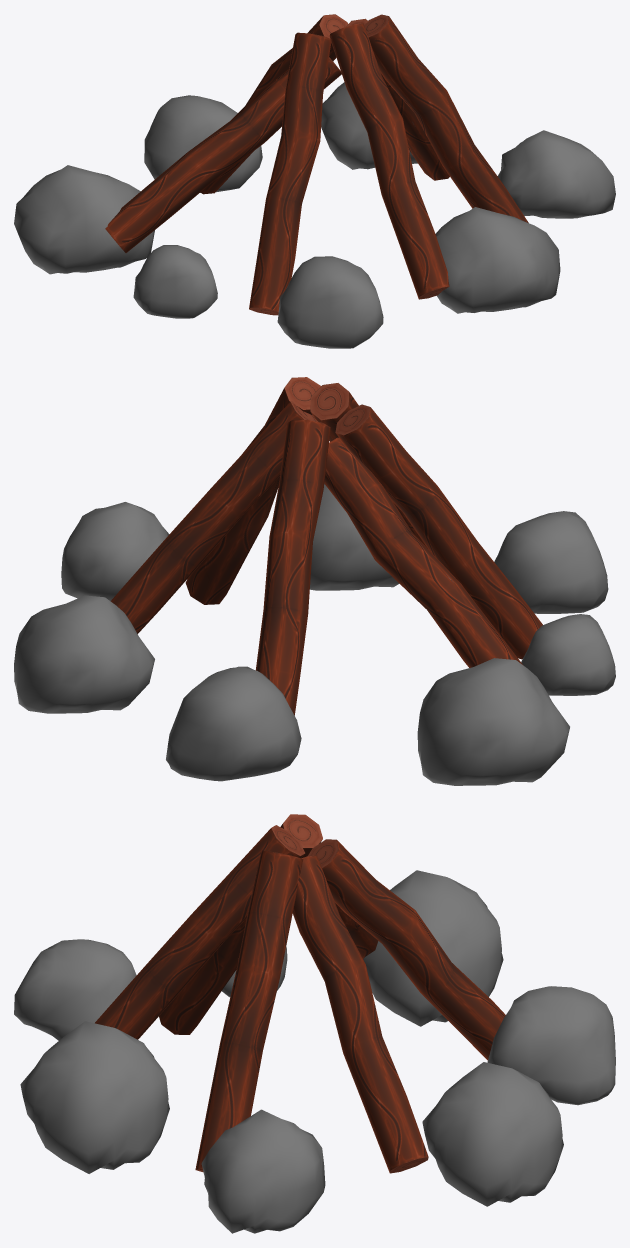
File: Campfire.FBX
3 views of the same model, one above another, from view 1: azimuth 30°, elevation 25°; view 2: azimuth 150°, elevation 25°; view 3: azimuth 270°, elevation 25° (orthographic). The views are drawn at different scales.
Parts seen in each view (by area): view 1: rockLP012, Stokkie005; view 2: rockLP012, Stokkie005; view 3: rockLP012, Stokkie005.
Part boxes in pixels (x1,y1,x2,y2): rockLP012: (14, 82, 615, 348); Stokkie005: (105, 14, 528, 315); rockLP012: (14, 484, 615, 785); Stokkie005: (110, 377, 542, 715); rockLP012: (14, 870, 615, 1233); Stokkie005: (95, 814, 505, 1173).
Bounding box in the file's own units: 41.58 × 18.79 × 36.9.
